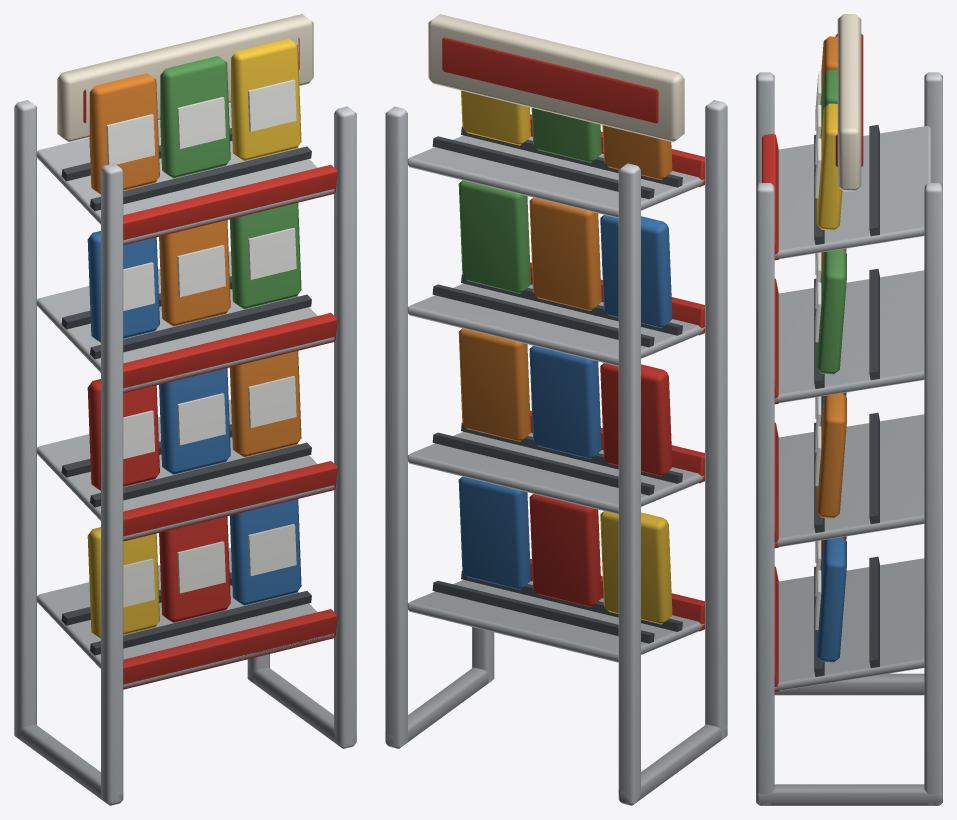
The model's file is WireRack_Chips_01_Stocked.glb.
The picture shows the model from 3 angles, left to right: view 1: azimuth 30°, elevation 25°; view 2: azimuth 150°, elevation 25°; view 3: azimuth 270°, elevation 25°; orthographic projection. The views are drawn at different scales.
Parts seen in each view (by area): view 1: SM_WireRack_Chips_01_Stocked; view 2: SM_WireRack_Chips_01_Stocked; view 3: SM_WireRack_Chips_01_Stocked.
Part boxes in pixels (x1,y1,x2,y2): SM_WireRack_Chips_01_Stocked: (14,14,356,805); SM_WireRack_Chips_01_Stocked: (385,14,727,805); SM_WireRack_Chips_01_Stocked: (756,14,942,805).
Bounding box in the file's own units: 0.6 × 1.6 × 0.4.
Materials: 1 (1 with a texture image).
